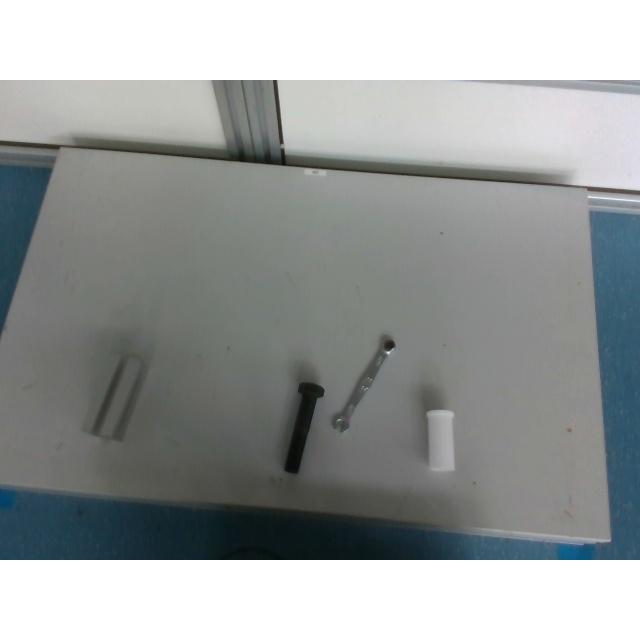M20_100: (284, 382, 324, 473)
S40_40_G: (80, 354, 146, 440)
Spacer: (426, 410, 454, 470)
Wrench: (330, 339, 398, 435)
